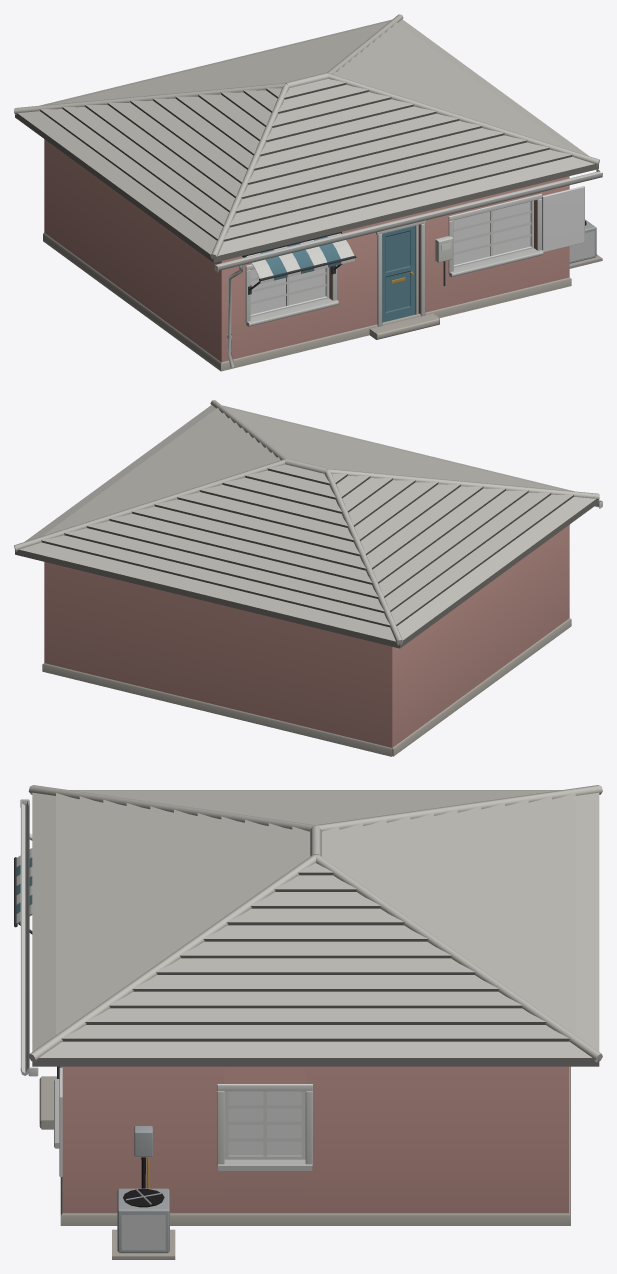
The model's file is RanchSmallFL.fbx.
3 renders of one model, top to bottom at view 1: azimuth 30°, elevation 25°; view 2: azimuth 150°, elevation 25°; view 3: azimuth 270°, elevation 25°, orthographic. The views are drawn at different scales.
Parts seen in each view (by area): view 1: RanchSmallFL; view 2: RanchSmallFL; view 3: RanchSmallFL.
Boxes of the visible parts, box(x1,y1,x2,y2) form: RanchSmallFL: box(14, 14, 602, 371); RanchSmallFL: box(14, 400, 602, 756); RanchSmallFL: box(14, 785, 602, 1259).
Bounding box in the file's own units: 10.22 × 4.31 × 8.72.
